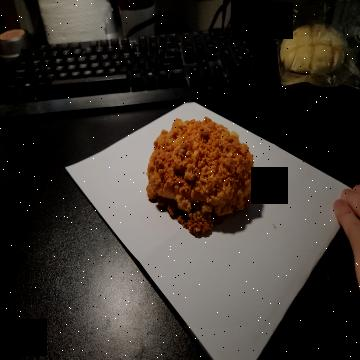soboru_bread: (147, 121, 257, 240)
